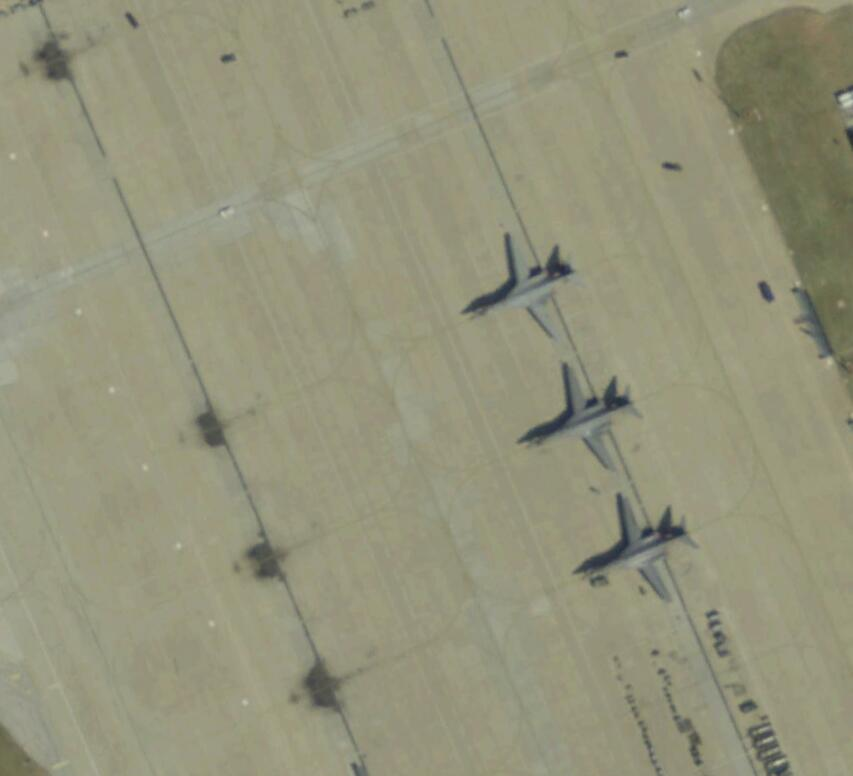A10: (514, 356, 649, 475), (568, 491, 705, 606), (460, 228, 584, 347)
